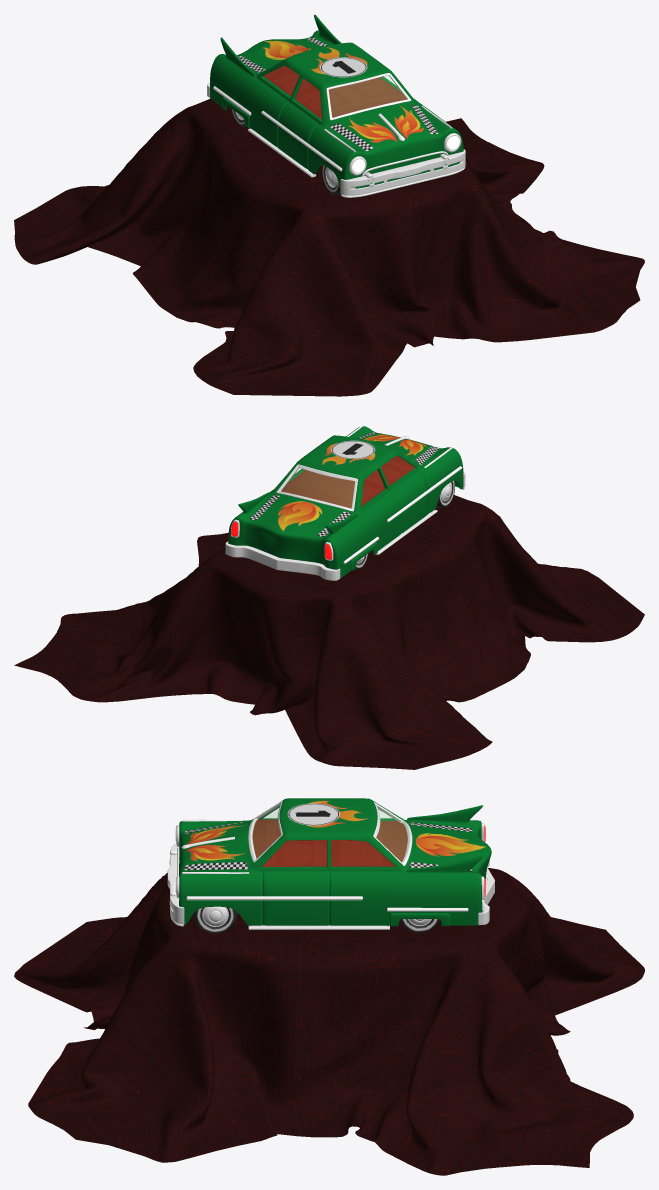
File: Toycar.glb
The picture shows the model from 3 angles, top to bottom: view 1: azimuth 30°, elevation 25°; view 2: azimuth 150°, elevation 25°; view 3: azimuth 270°, elevation 25°; orthographic projection. The views are drawn at different scales.
Visible parts, largest first — view 1: Fabric, ToyCar, Glass; view 2: Fabric, ToyCar, Glass; view 3: Fabric, ToyCar, Glass.
Boxes of the visible parts, x1,y1,x2,y2 form: Fabric: (14,98,644,396); ToyCar: (207,14,465,197); Glass: (329,75,406,116); Fabric: (14,495,644,769); ToyCar: (225,425,465,580); Glass: (281,468,354,507); Fabric: (14,863,644,1175); ToyCar: (167,798,494,933); Glass: (252,805,408,861).
Bounding box in the file's own units: 0.0735 × 0.0288 × 0.074.
Materials: 3 (2 with a texture image).
